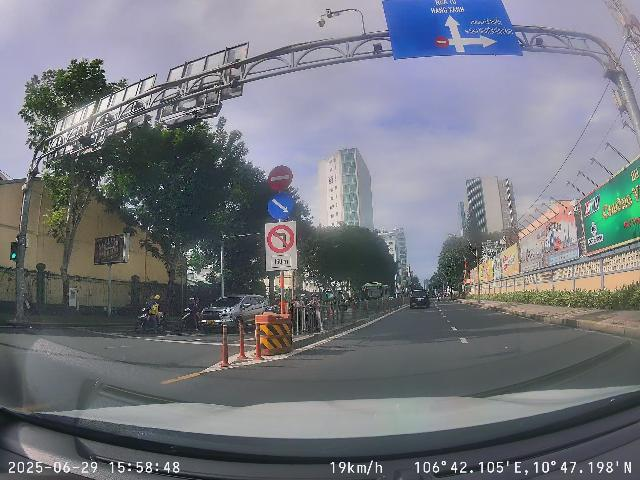102-cam-di-nguoc-chieu: (268, 165, 293, 190)
123a-cam-re-trai: (267, 225, 295, 253)
302a-huong-phai-di-vong-chuong-ngai-vat-1: (267, 192, 294, 219)
